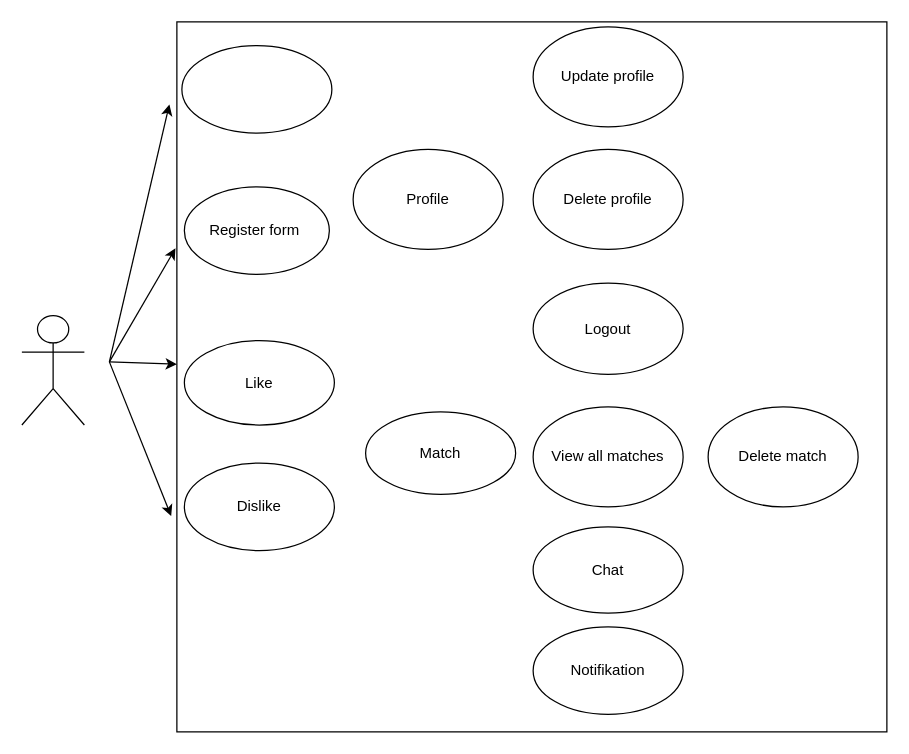
Some shapes in this 909 by 754 pixel diagram are drawn without their labels. Each missing label, with the centre of its shape:
"Dater" goes at point 52,369.
"Login form" goes at point 256,88.
